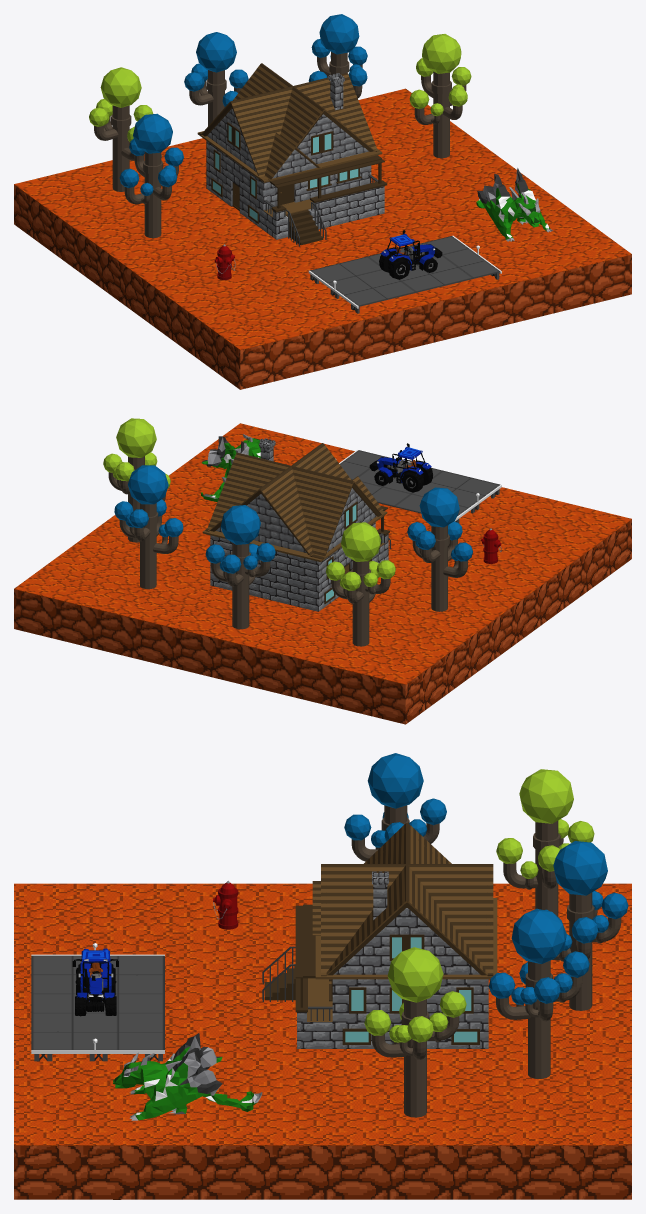
The picture shows the model from 3 angles, top to bottom: view 1: azimuth 30°, elevation 25°; view 2: azimuth 150°, elevation 25°; view 3: azimuth 270°, elevation 25°; orthographic projection. The views are drawn at different scales.
Parts seen in each view (by area): view 1: Cube.001, Cube.586, ANIMAL_DRAGON, VEHICLES_TRACTOR, OBJRANDOM_FIRE_HYDRANT; view 2: Cube.001, Cube.586, VEHICLES_TRACTOR, ANIMAL_DRAGON, OBJRANDOM_FIRE_HYDRANT; view 3: Cube.001, Cube.586, ANIMAL_DRAGON, VEHICLES_TRACTOR, OBJRANDOM_FIRE_HYDRANT.
Boxes of the visible parts, <box> form: Cube.001: <box>14,14,631,389</box>; Cube.586: <box>197,63,387,246</box>; ANIMAL_DRAGON: <box>476,168,552,241</box>; VEHICLES_TRACTOR: <box>379,230,442,279</box>; OBJRANDOM_FIRE_HYDRANT: <box>214,244,235,279</box>; Cube.001: <box>14,418,631,724</box>; Cube.586: <box>202,438,390,611</box>; VEHICLES_TRACTOR: <box>369,443,432,492</box>; ANIMAL_DRAGON: <box>201,434,262,501</box>; OBJRANDOM_FIRE_HYDRANT: <box>481,528,501,563</box>; Cube.001: <box>14,753,631,1199</box>; Cube.586: <box>262,823,497,1048</box>; ANIMAL_DRAGON: <box>113,1033,262,1120</box>; VEHICLES_TRACTOR: <box>72,948,118,1016</box>; OBJRANDOM_FIRE_HYDRANT: <box>213,880,238,929</box>.
Size of the model in its own units: 4000 by 1637 by 4000.
Materials: 29 (5 with a texture image).
